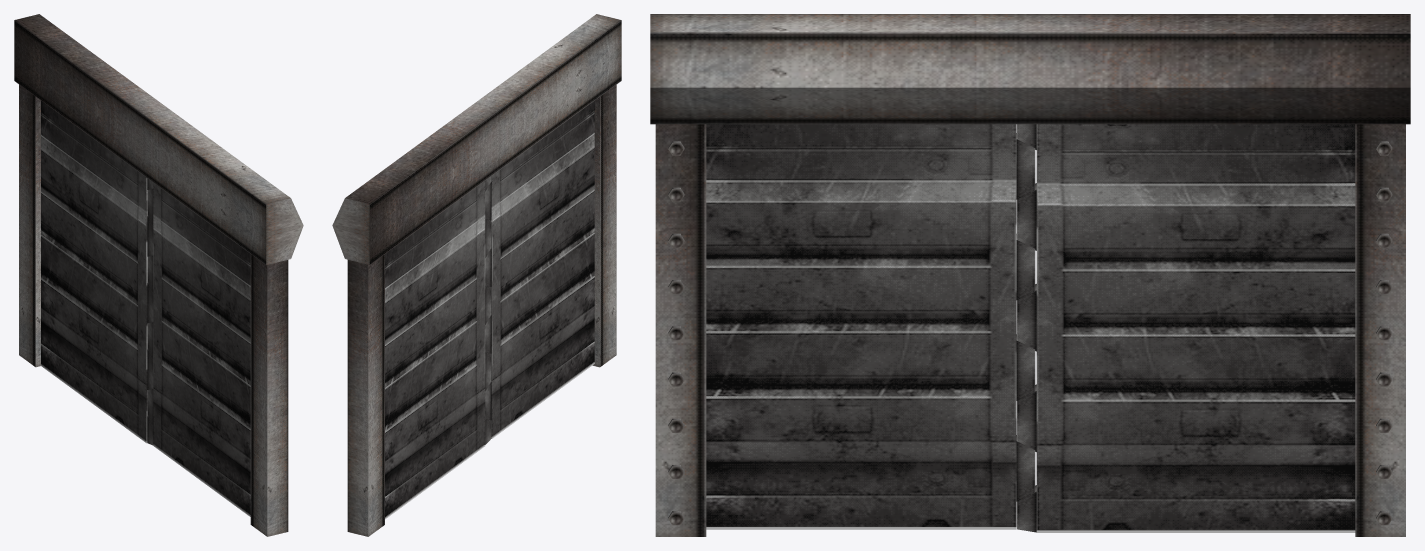
File: MetalDoor.fbx
3 views of the same model, side by side, from view 1: azimuth 30°, elevation 25°; view 2: azimuth 150°, elevation 25°; view 3: azimuth 270°, elevation 25° (orthographic). The views are drawn at different scales.
Visible parts, largest first — view 1: Cube.009, Cube.004, Cube.007, Cube.008, Cube.010; view 2: Cube.004, Cube.009, Cube.007, Cube.010, Cube.008; view 3: Cube.009, Cube.004, Cube.007, Cube.008, Cube.010.
Boxes of the visible parts, x1,y1,x2,y2 form: Cube.009: (41, 101, 153, 445); Cube.004: (147, 183, 250, 516); Cube.007: (14, 14, 303, 264); Cube.008: (250, 254, 288, 536); Cube.010: (19, 84, 40, 367); Cube.004: (485, 101, 594, 438); Cube.009: (385, 176, 491, 519); Cube.007: (332, 14, 621, 264); Cube.010: (347, 254, 384, 536); Cube.008: (592, 85, 616, 367); Cube.009: (1017, 124, 1355, 532); Cube.004: (706, 124, 1035, 529); Cube.007: (650, 14, 1410, 124); Cube.008: (655, 124, 706, 536); Cube.010: (1355, 124, 1405, 536).
Bounding box in the file's own units: 69.41 × 589 × 803.
